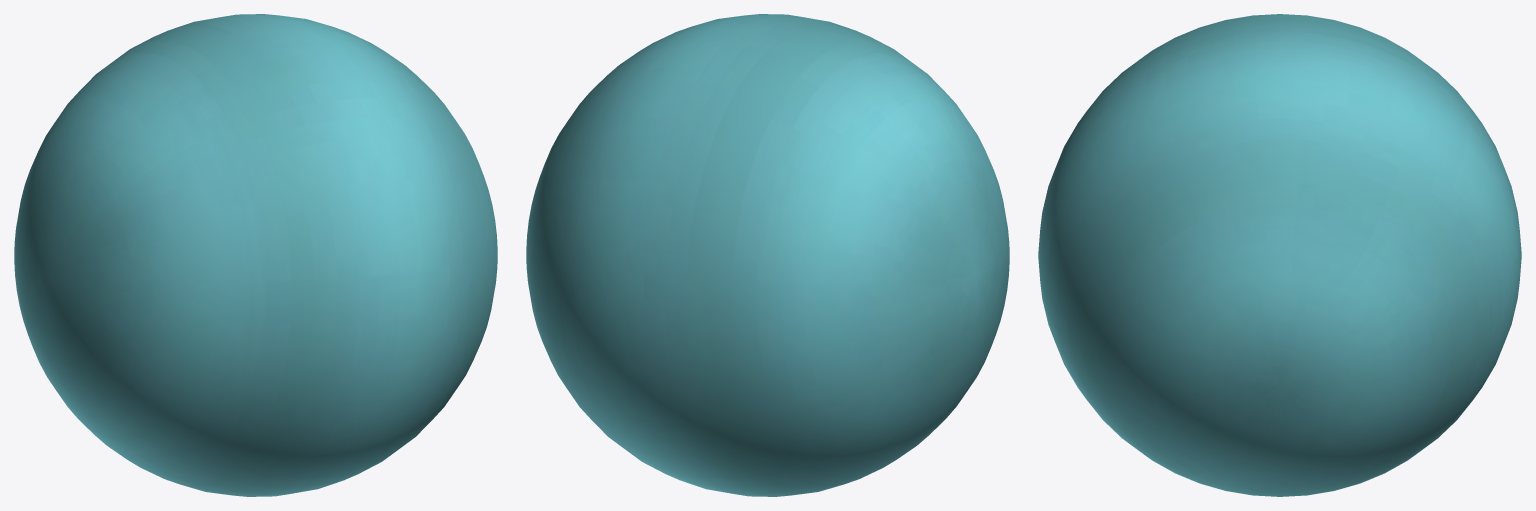
File: uranus.glb
3 views of the same model, side by side, from view 1: azimuth 30°, elevation 25°; view 2: azimuth 150°, elevation 25°; view 3: azimuth 270°, elevation 25° (orthographic).
Parts seen in each view (by area): view 1: Uranus; view 2: Uranus; view 3: Uranus.
Boxes of the visible parts, bbox=[...] form: Uranus: bbox=[14, 14, 497, 496]; Uranus: bbox=[526, 14, 1009, 496]; Uranus: bbox=[1038, 14, 1521, 496].
Bounding box in the file's own units: 0.3 × 0.3 × 0.3.
1 material, 1 textured.
